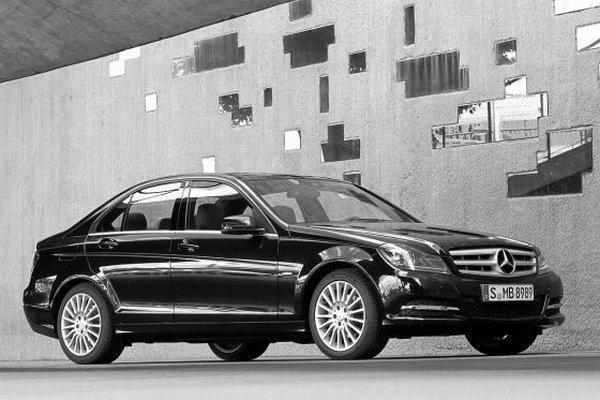car: (19, 174, 569, 363)
